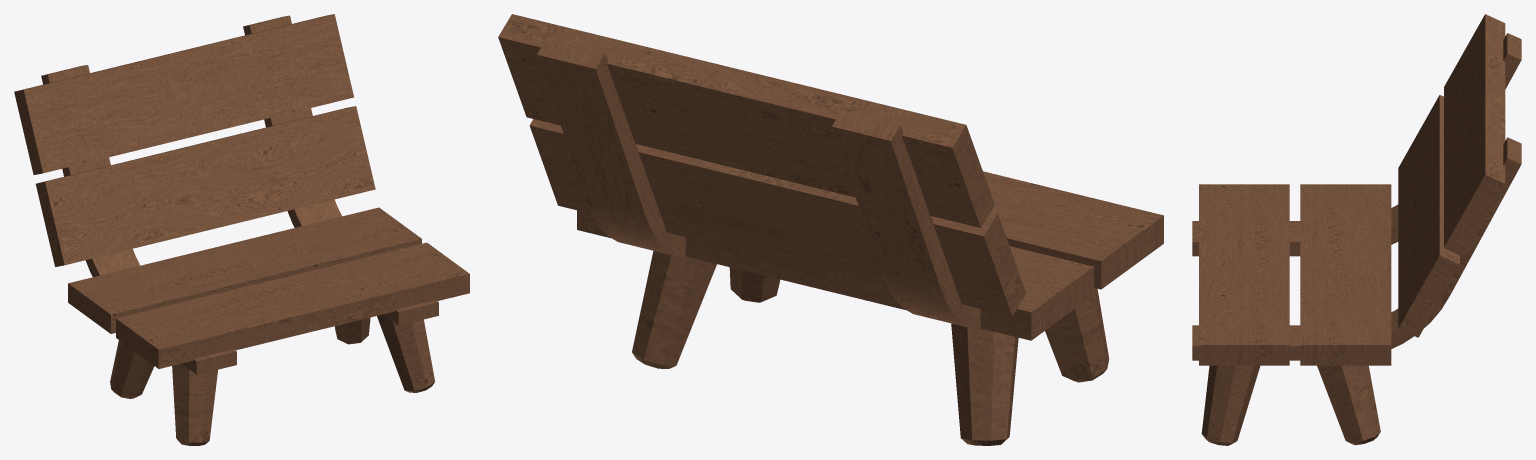
Rendered from Bench.glb.
The picture shows the model from 3 angles, left to right: view 1: azimuth 30°, elevation 25°; view 2: azimuth 150°, elevation 25°; view 3: azimuth 270°, elevation 25°; orthographic projection. The views are drawn at different scales.
Visible parts, largest first — view 1: benchHIGH; view 2: benchHIGH; view 3: benchHIGH.
Boxes of the visible parts, x1,y1,x2,y2 form: benchHIGH: (14,14,469,445); benchHIGH: (498,14,1163,445); benchHIGH: (1192,14,1521,445).
Size of the model in its own units: 7.71 by 6.51 by 6.67.
1 material, 1 textured.
